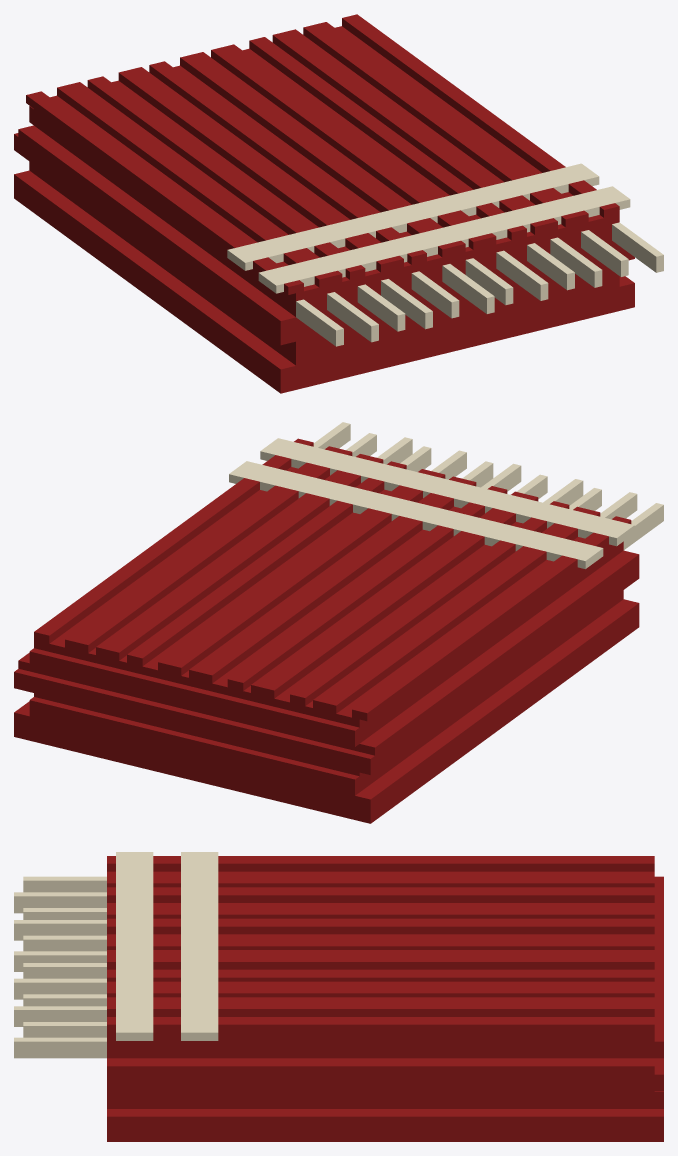
Rendered from knit_scarf.glb.
3 renders of one model, top to bottom at view 1: azimuth 30°, elevation 25°; view 2: azimuth 150°, elevation 25°; view 3: azimuth 270°, elevation 25°, orthographic. The views are drawn at different scales.
Visible parts, largest first — view 1: knit_scarf:compound; view 2: knit_scarf:compound; view 3: knit_scarf:compound.
Boxes of the visible parts, left/top/right/bottom form: knit_scarf:compound: left=14, top=14, right=663, bottom=393; knit_scarf:compound: left=14, top=422, right=663, bottom=823; knit_scarf:compound: left=14, top=852, right=663, bottom=1141.
Size of the model in its own units: 0.184 by 0.052 by 0.28.
